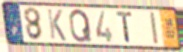4: (94, 10, 114, 44)
8: (23, 7, 45, 42)
I: (148, 11, 161, 47)
K: (46, 8, 68, 43)
Q: (68, 8, 94, 44)
T: (115, 11, 134, 44)
